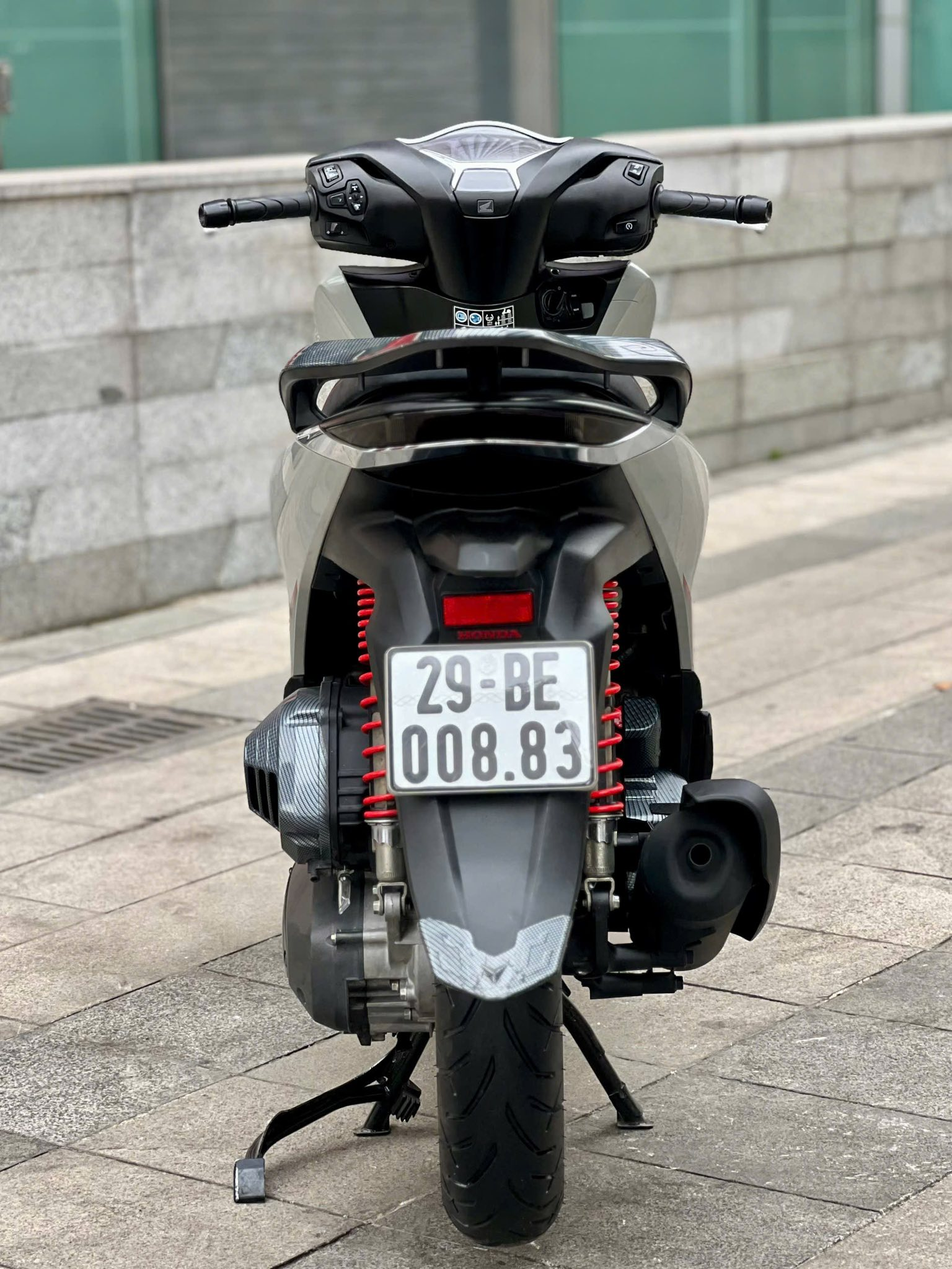bien_so: (373, 640, 612, 801)
